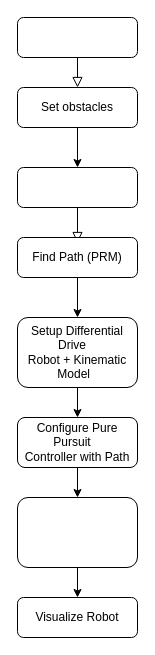
The diagram is 155 pixels wide and 655 high, and some of its shapes have lost their labels. The box of each missing label's shape, as (x1, y1, x2, y2) in pixels:
Configure PRM Planner: (16, 166, 138, 208)
Create map: (16, 16, 138, 58)
Run Simulation Loop (Update Pose using v, omega from controller): (16, 496, 138, 568)
